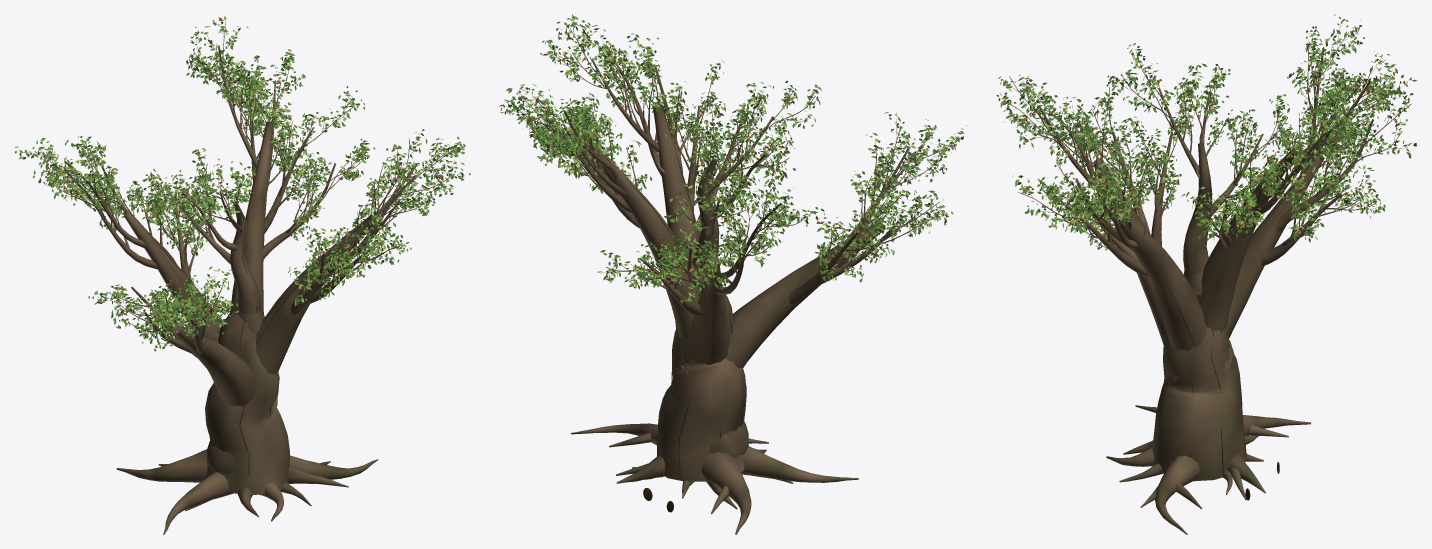
The model's file is ancient_tree_02_lod1.glb.
The picture shows the model from 3 angles, left to right: view 1: azimuth 30°, elevation 25°; view 2: azimuth 150°, elevation 25°; view 3: azimuth 270°, elevation 25°; orthographic projection. The views are drawn at different scales.
Parts seen in each view (by area): view 1: AncientTreeWood_LOD1, AncientLeaves_LOD1, FineBranches_LOD1, DirectedBarkGrooves_LOD1; view 2: AncientTreeWood_LOD1, AncientLeaves_LOD1, FineBranches_LOD1, DirectedBarkGrooves_LOD1; view 3: AncientTreeWood_LOD1, AncientLeaves_LOD1, FineBranches_LOD1, DirectedBarkGrooves_LOD1.
Boxes of the visible parts, box(x1,y1,x2,y2) form: AncientTreeWood_LOD1: box(34, 21, 453, 534); AncientLeaves_LOD1: box(14, 16, 470, 351); FineBranches_LOD1: box(23, 23, 460, 343); DirectedBarkGrooves_LOD1: box(130, 122, 370, 474); AncientTreeWood_LOD1: box(517, 28, 963, 534); AncientLeaves_LOD1: box(499, 14, 967, 303); FineBranches_LOD1: box(506, 20, 961, 295); DirectedBarkGrooves_LOD1: box(602, 105, 881, 480); AncientTreeWood_LOD1: box(1009, 32, 1409, 534); AncientLeaves_LOD1: box(996, 14, 1417, 250); FineBranches_LOD1: box(1002, 23, 1407, 247); DirectedBarkGrooves_LOD1: box(1094, 143, 1317, 477).
Size of the model in its own units: 22.86 by 24.78 by 20.75.
